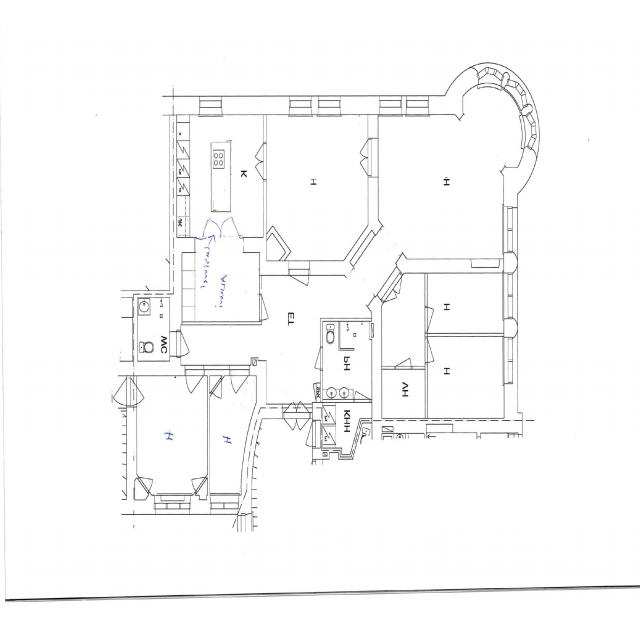door: (290, 260, 309, 302), (126, 378, 151, 406), (170, 332, 198, 356), (107, 378, 131, 406), (186, 366, 204, 400), (231, 366, 249, 400), (382, 286, 403, 315), (391, 273, 412, 302), (186, 463, 207, 492), (138, 463, 159, 492), (221, 212, 240, 241), (203, 212, 221, 241), (212, 378, 230, 404), (260, 295, 279, 319), (426, 307, 444, 332), (426, 338, 444, 362), (356, 157, 378, 175), (396, 344, 411, 369), (306, 347, 323, 369), (356, 140, 378, 157), (355, 378, 370, 402), (296, 412, 310, 437), (296, 394, 310, 419), (284, 412, 297, 437), (284, 394, 297, 419), (250, 162, 266, 180), (250, 144, 266, 162)
